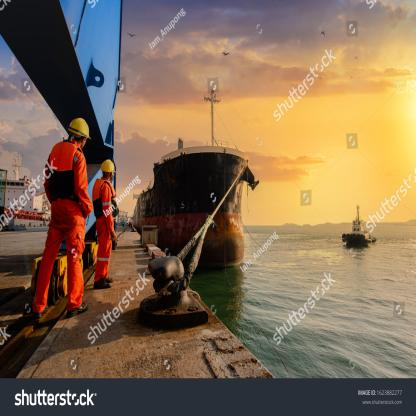bota: (64, 300, 90, 320), (29, 302, 50, 323), (93, 275, 115, 292)
capacete: (66, 116, 92, 142), (99, 159, 117, 175)
